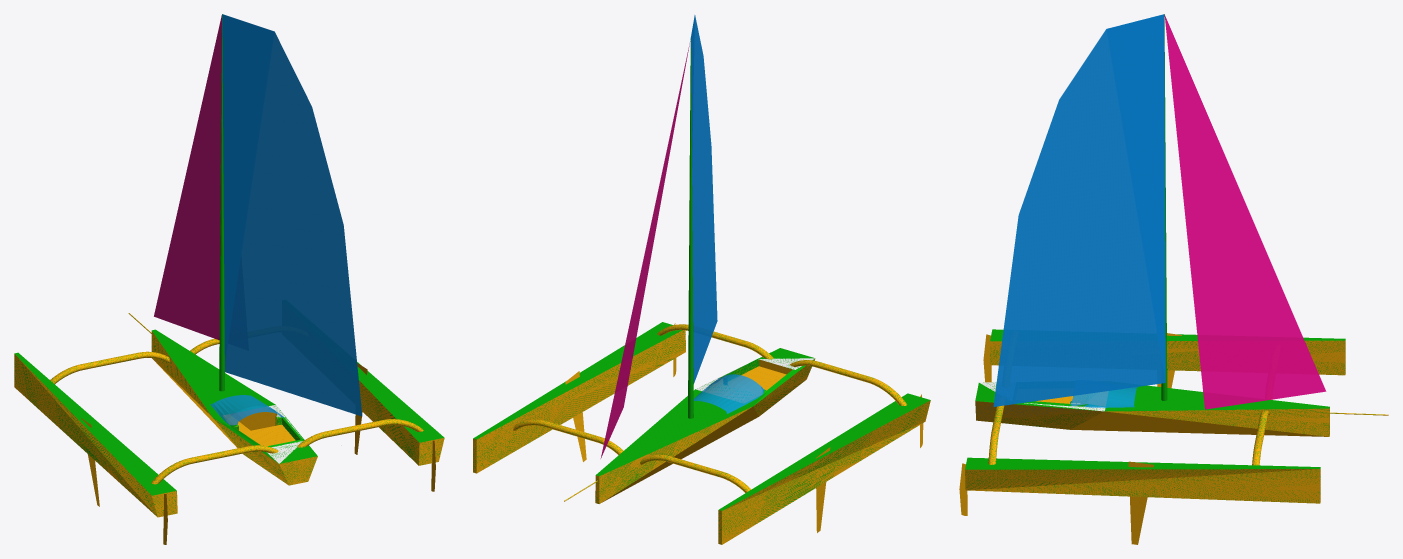
The model's file is foc_babord_trimaran.dae.
The picture shows the model from 3 angles, left to right: view 1: azimuth 30°, elevation 25°; view 2: azimuth 150°, elevation 25°; view 3: azimuth 270°, elevation 25°; orthographic projection. The views are drawn at different scales.
Parts seen in each view (by area): view 1: instance_2 (×3), SketchUp (×13); view 2: SketchUp (×14), instance_2 (×3); view 3: instance_2 (×3), SketchUp (×10).
Boxes of the visible parts, x1,y1,x2,y2 form: instance_2 (×3): (154,14,362,416); SketchUp (×13): (14,329,444,517); SketchUp (×14): (473,322,930,544); instance_2 (×3): (600,15,717,458); instance_2 (×3): (993,14,1326,409); SketchUp (×10): (965,340,1345,544).
Size of the model in its own units: 90181 by 111154 by 135025.
Materials: 21 (5 with a texture image).
